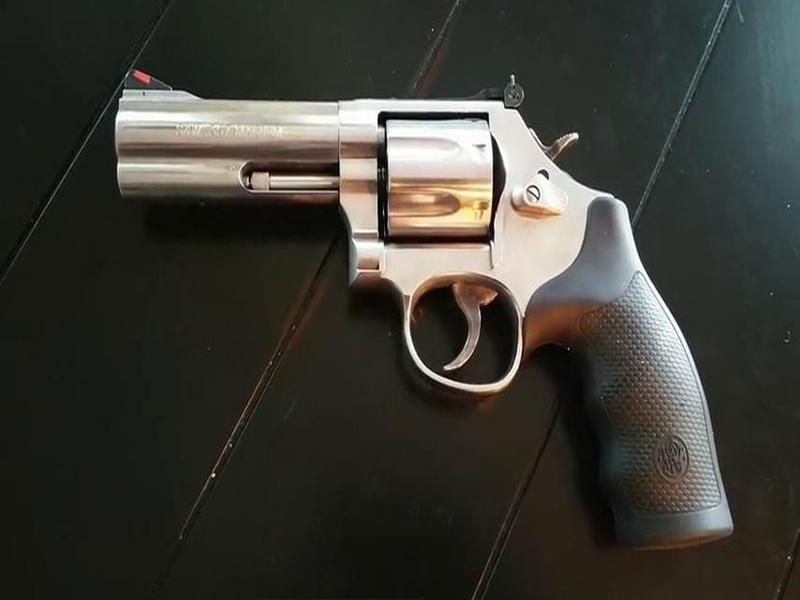Revolver: (108, 68, 717, 536)
